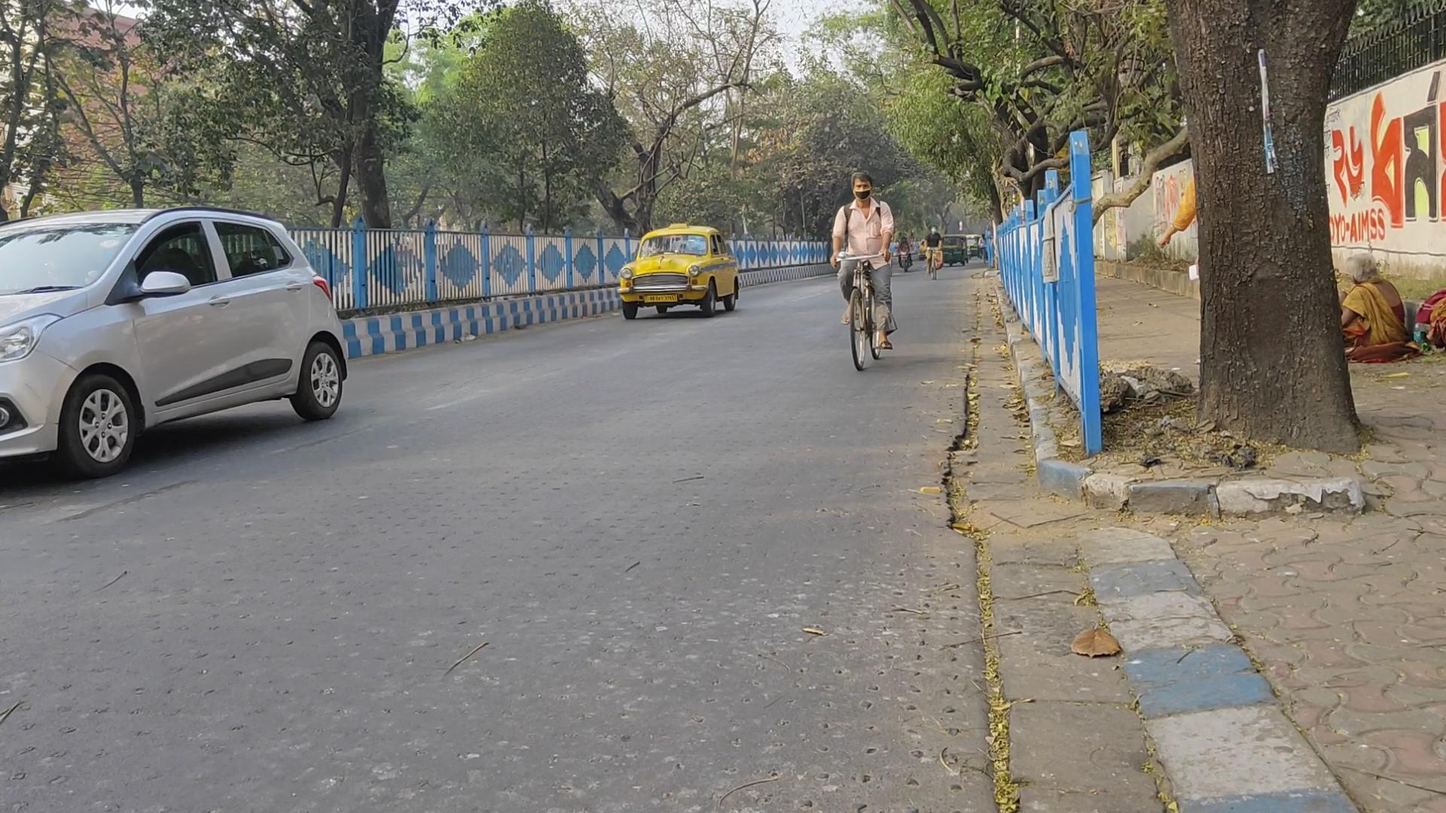Auto: (940, 233, 968, 268)
bike: (831, 171, 895, 370), (923, 224, 944, 281), (895, 236, 914, 273)
car: (2, 207, 349, 474), (618, 222, 740, 321)
